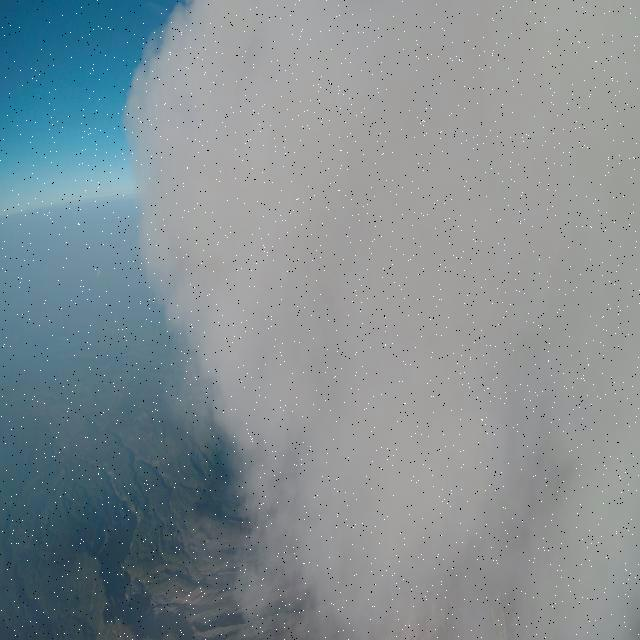Plume: (135, 0, 640, 640)
